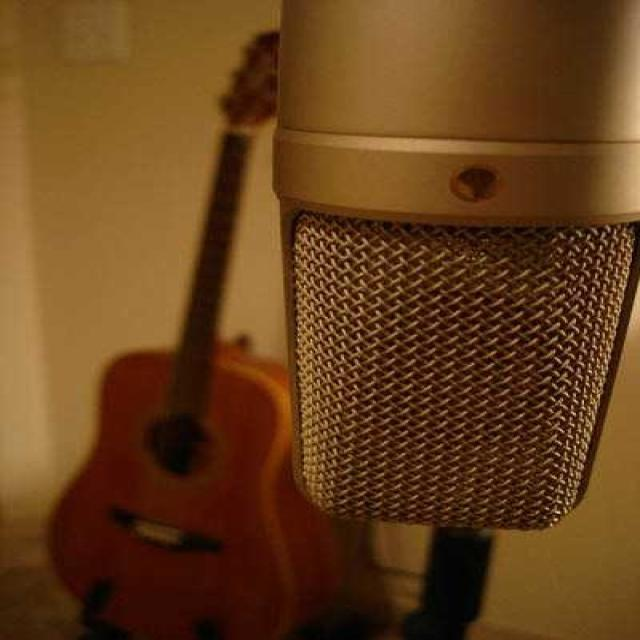microphone: (271, 5, 631, 517)
